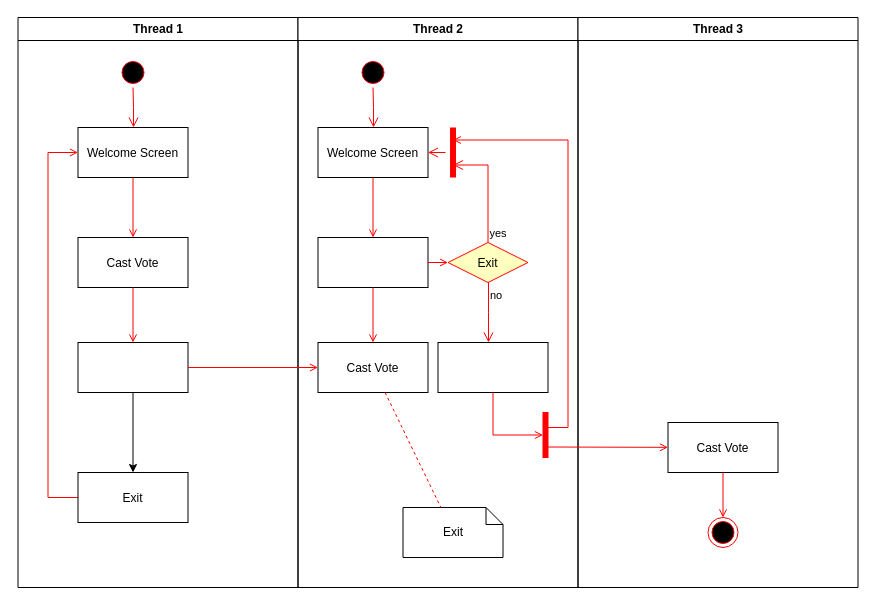
The diagram is 875 pixels wide and 605 high, and some of its shapes have lost their labels. Here are the shapes that lost their labels. From the top down, the centre of each, then its label:
pixel 372 262: Find Total Votes
pixel 132 367: Candidates Name
pixel 492 367: Find Leading Candidate
